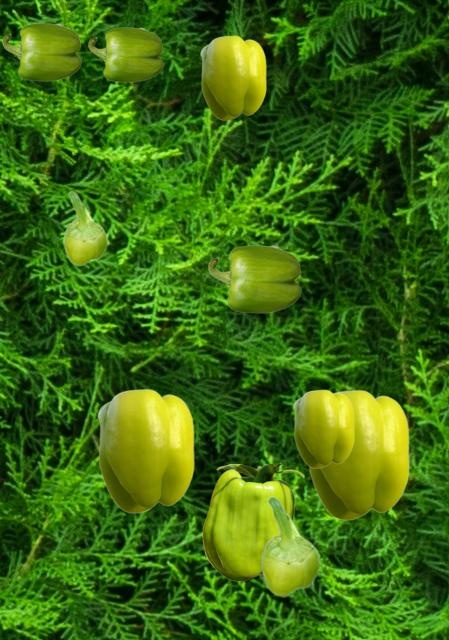bell_pepper: (308, 389, 408, 519), (97, 388, 193, 512), (202, 464, 303, 580), (208, 245, 300, 312), (260, 496, 320, 596), (200, 35, 265, 119), (293, 389, 353, 467), (2, 23, 80, 80), (88, 27, 162, 81), (63, 191, 107, 265)
